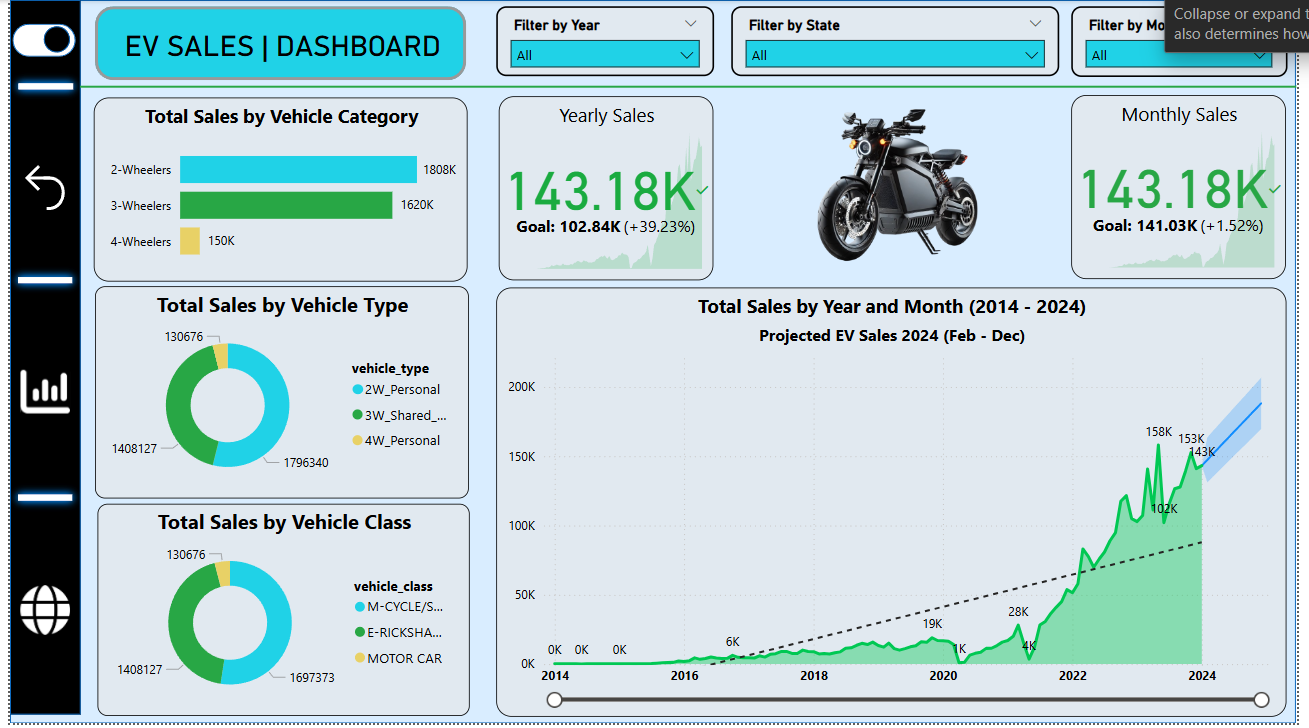

This screenshot's page, from the dashboard's own definition file:
{"tool":"powerbi","page":{"name":"Page 2","canvas":[1280,720],"ordinal":0},"visuals":[{"type":"shape","box":[0.3,0.1,1279.7,719.9],"z":1000},{"type":"shape","box":[0,0,70.7,711],"z":4000},{"type":"shape","box":[0,250,70,57.5],"z":12000},{"type":"shape","box":[0,466.2,70,57.5],"z":13000},{"type":"shape","box":[0,57.5,70,57.5],"z":14000},{"type":"shape","box":[85.1,5.8,369.3,73.6],"z":15000},{"type":"image","title":"MVP (Most sold Product)","box":[717.1,99.6,326.1,178.9],"z":16000},{"type":"actionButton","box":[6.2,152.5,57.5,67.5],"z":17000},{"type":"actionButton","box":[6.2,357.5,57.5,65],"z":18000},{"type":"actionButton","box":[6.2,573.8,57.5,67.5],"z":19000},{"type":"lineChart","title":"Total Sales by Year and Month (2014 - 2024)","fields":{"Y":["All Measures Table.Total Sales"],"Category":["copy of EVS.Start of Month"]},"box":[483.4,285.9,786.5,427],"z":20000},{"type":"donutChart","title":"Total Sales by Vehicle Type","fields":{"Y":["All Measures Table.Total Sales"],"Category":["copy of EVS.vehicle_type"]},"box":[85,285,371.8,211],"z":21000},{"type":"donutChart","title":"Total Sales by Vehicle  Class","fields":{"Y":["All Measures Table.Total Sales"],"Category":["copy of EVS.vehicle_class"]},"box":[87.1,501.8,370.6,211],"z":22000},{"type":"clusteredBarChart","title":"Total Sales by Vehicle Category","fields":{"Y":["All Measures Table.Total Sales"],"Category":["copy of EVS.vehicle_category"]},"box":[83.7,96.7,372.2,183.2],"z":23000},{"type":"kpi","title":"Yearly Sales","fields":{"Indicator":["All Measures Table.Total Sales"],"Goal":["All Measures Table.prev"],"TrendLine":["copy of EVS.ev_date"]},"box":[485.9,95.7,213.5,182.8],"z":24000},{"type":"kpi","title":"Monthly Sales","fields":{"Indicator":["All Measures Table.Total Sales"],"TrendLine":["copy of EVS.ev_date"],"Goal":["All Measures Table.pre"]},"box":[1056.4,94.5,213.5,182.8],"z":25000},{"type":"slicer","fields":{"Values":["copy of EVS.ev_year"]},"box":[484,6,217.2,69.9],"z":26000},{"type":"slicer","fields":{"Values":["copy of EVS.state"]},"box":[717.8,6.1,326.4,69.9],"z":27000},{"type":"slicer","fields":{"Values":["copy of EVS.month_name"]},"box":[1056.1,5.8,215,70.7],"z":28000},{"type":"image","title":"MVP (Most sold Product)","box":[719,95.7,325.2,179.1],"z":29000},{"type":"shape","box":[0,466.3,69.9,57.7],"z":30000},{"type":"shape","box":[0,250.3,69.9,57.7],"z":31000},{"type":"shape","box":[1.2,57.7,69.9,57.7],"z":32000},{"type":"card","fields":{"Values":["All Measures Table.Title"]},"box":[85.9,6.1,371.8,74.8],"z":33000},{"type":"shape","box":[69.6,75.9,1210.4,21.1],"z":34000},{"type":"shape","box":[2.9,23.1,63.5,33.2],"z":36000},{"type":"shape","box":[33.6,26.1,26.1,26.1],"z":37000},{"type":"actionButton","box":[0,22.4,70.9,39.8],"z":39000}]}

Visuals, with their boxes in screenshot pixels (x1, y1, x2, y2):
shape: bbox=(7, 0, 1286, 719)
shape: bbox=(7, 0, 77, 710)
shape: bbox=(7, 250, 77, 307)
shape: bbox=(7, 466, 77, 523)
shape: bbox=(7, 57, 77, 115)
shape: bbox=(92, 6, 461, 79)
"MVP (Most sold Product)" image: bbox=(723, 100, 1049, 278)
actionButton: bbox=(13, 152, 70, 220)
actionButton: bbox=(13, 357, 70, 422)
actionButton: bbox=(13, 573, 70, 641)
"Total Sales by Year and Month (2014 - 2024)" lineChart: bbox=(490, 286, 1276, 712)
"Total Sales by Vehicle Type" donutChart: bbox=(92, 285, 463, 496)
"Total Sales by Vehicle  Class" donutChart: bbox=(94, 501, 464, 712)
"Total Sales by Vehicle Category" clusteredBarChart: bbox=(90, 97, 462, 280)
"Yearly Sales" kpi: bbox=(492, 96, 706, 278)
"Monthly Sales" kpi: bbox=(1062, 94, 1276, 277)
slicer - copy of EVS.ev_year: bbox=(490, 6, 707, 76)
slicer - copy of EVS.state: bbox=(724, 6, 1050, 76)
slicer - copy of EVS.month_name: bbox=(1062, 6, 1277, 76)
"MVP (Most sold Product)" image: bbox=(725, 96, 1050, 275)
shape: bbox=(7, 466, 77, 524)
shape: bbox=(7, 250, 77, 308)
shape: bbox=(8, 58, 78, 115)
card - All Measures Table.Title: bbox=(93, 6, 464, 81)
shape: bbox=(76, 76, 1286, 97)
shape: bbox=(10, 23, 73, 56)
shape: bbox=(40, 26, 66, 52)
actionButton: bbox=(7, 22, 78, 62)
